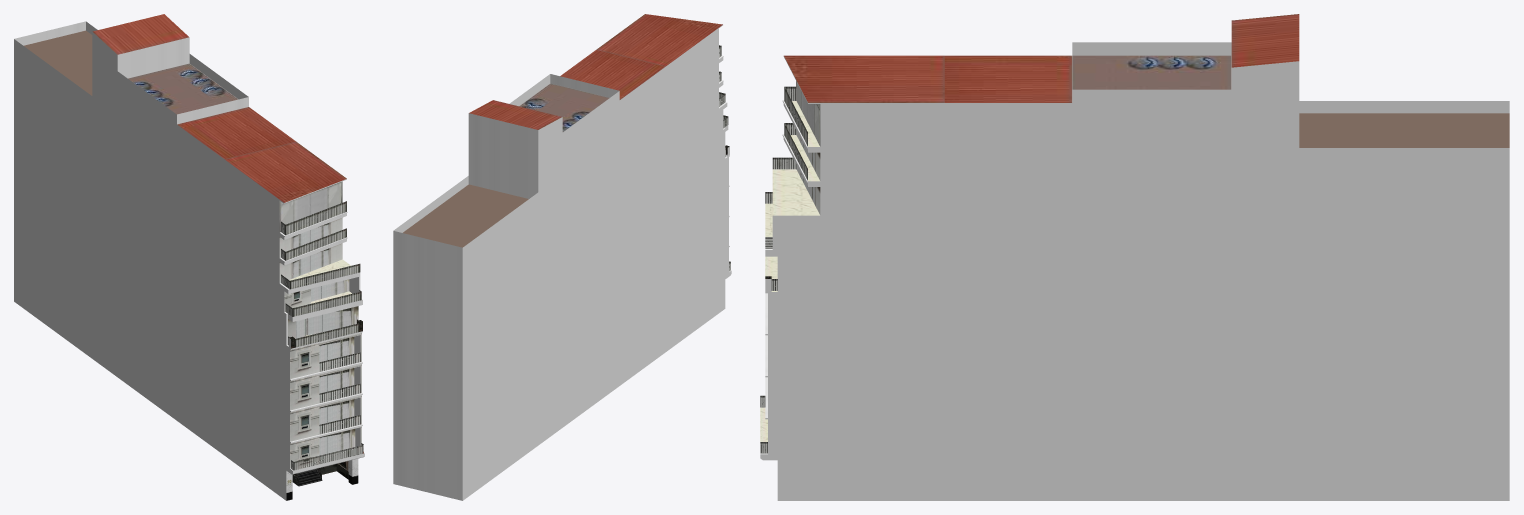
The picture shows the model from 3 angles, left to right: view 1: azimuth 30°, elevation 25°; view 2: azimuth 150°, elevation 25°; view 3: azimuth 270°, elevation 25°; orthographic projection. The views are drawn at different scales.
Visible parts, largest first — view 1: HN071___Shining_Central_Hotel; view 2: HN071___Shining_Central_Hotel; view 3: HN071___Shining_Central_Hotel.
Boxes of the visible parts, x1=… form: HN071___Shining_Central_Hotel: x1=14, y1=14, x2=364, y2=500; HN071___Shining_Central_Hotel: x1=393, y1=14, x2=731, y2=500; HN071___Shining_Central_Hotel: x1=760, y1=14, x2=1509, y2=500.
Bounding box in the file's own units: 9.02 × 39.09 × 60.38.
Materials: 1 (1 with a texture image).
